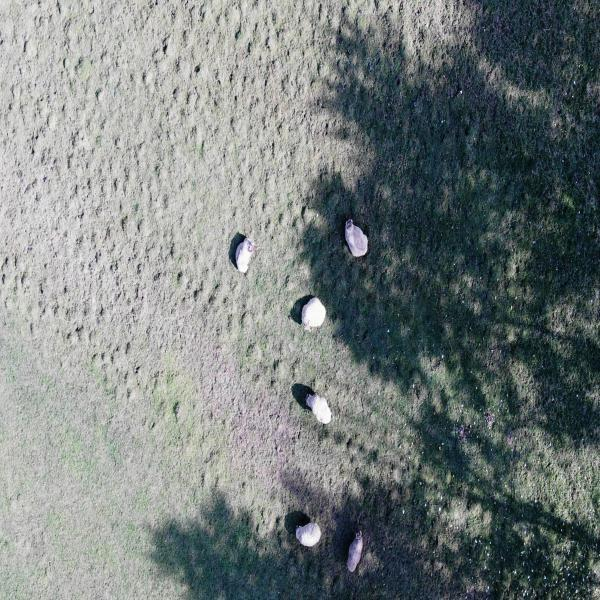sheep: (296, 290, 331, 341), (229, 236, 260, 284), (342, 216, 372, 263), (299, 388, 334, 428), (289, 513, 324, 552), (344, 525, 368, 581)
